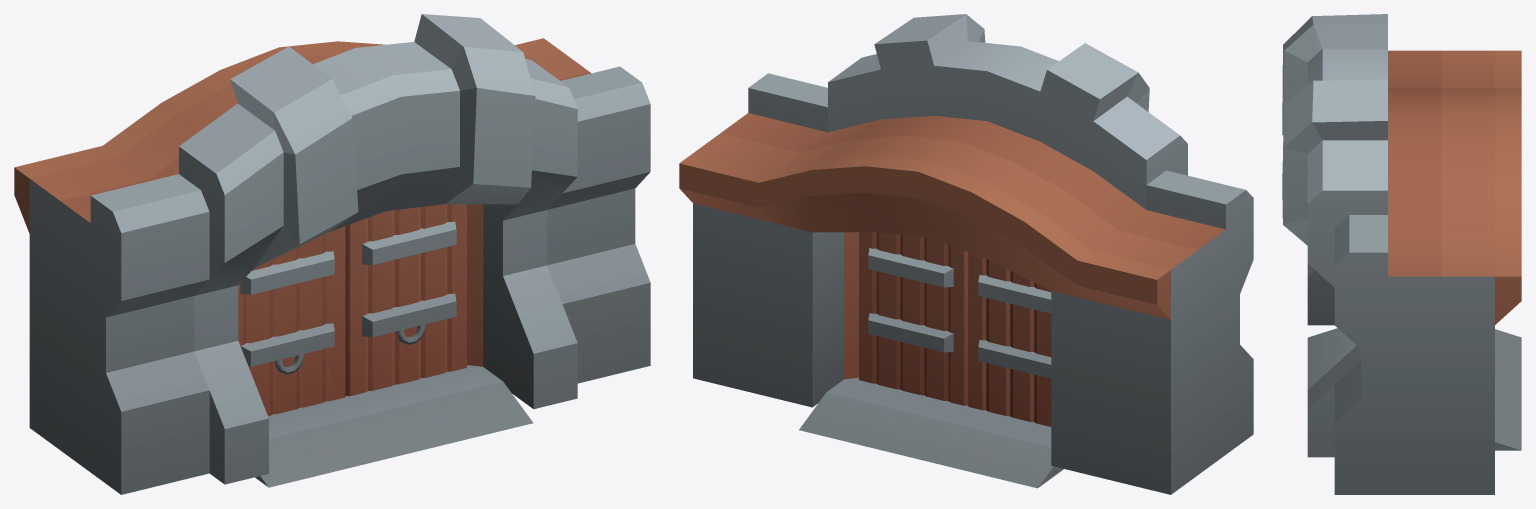
File: wall_straight_gate.gltf
3 renders of one model, left to right at view 1: azimuth 30°, elevation 25°; view 2: azimuth 150°, elevation 25°; view 3: azimuth 270°, elevation 25°, orthographic. The views are drawn at different scales.
Visible parts, largest first — view 1: wall_straight_gate, wall_straight_gate_door_left, wall_straight_gate_door_right; view 2: wall_straight_gate, wall_straight_gate_door_left, wall_straight_gate_door_right; view 3: wall_straight_gate.
Boxes of the visible parts, bbox=[...] form: wall_straight_gate: bbox=[14, 14, 650, 494]; wall_straight_gate_door_left: bbox=[346, 204, 466, 396]; wall_straight_gate_door_right: bbox=[238, 226, 346, 416]; wall_straight_gate: bbox=[679, 14, 1253, 494]; wall_straight_gate_door_left: bbox=[859, 232, 967, 405]; wall_straight_gate_door_right: bbox=[968, 252, 1051, 426]; wall_straight_gate: bbox=[1282, 14, 1521, 494].
Bounding box in the file's own units: 2 × 1.41 × 0.8956.
1 material, 1 textured.
